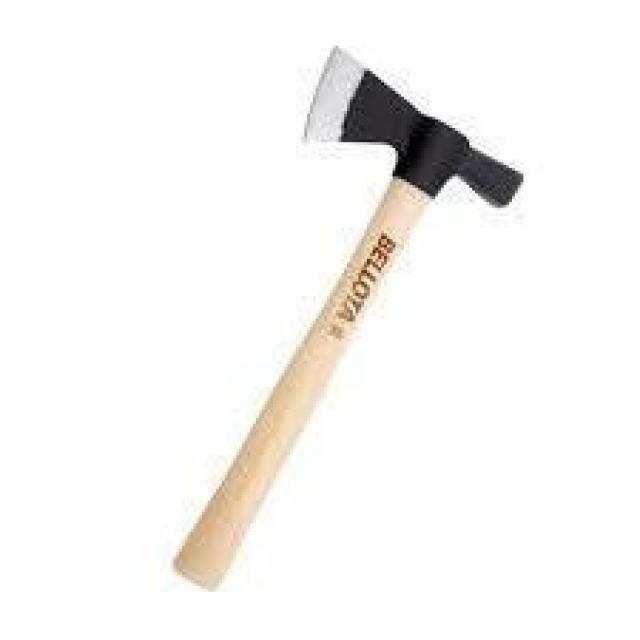Kapak: (125, 30, 518, 596)
